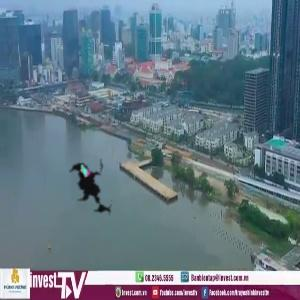drone: (50, 140, 144, 234)
